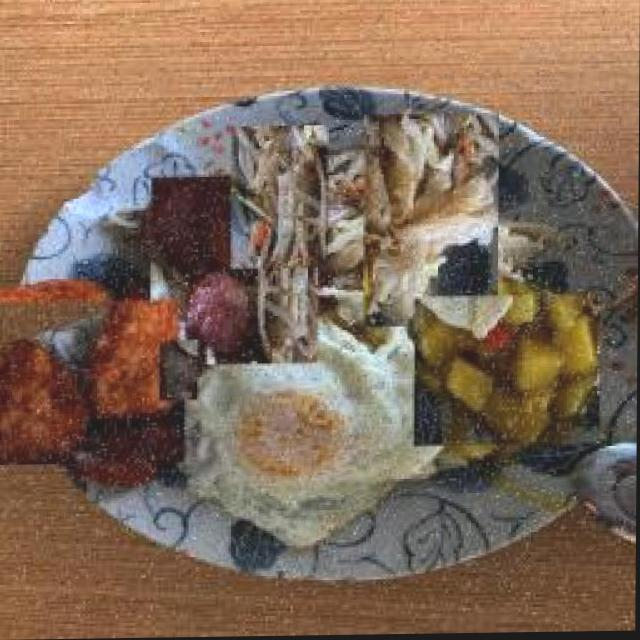chinese_cabbage: (346, 134, 520, 309)
chinese_sausage: (146, 179, 327, 361)
curry: (424, 288, 593, 458)
fried_eggs: (167, 325, 463, 551)
mung_bean_sprouts: (221, 139, 342, 260)
rice: (156, 346, 206, 396)
triangle_hash_brown: (0, 288, 176, 478)
